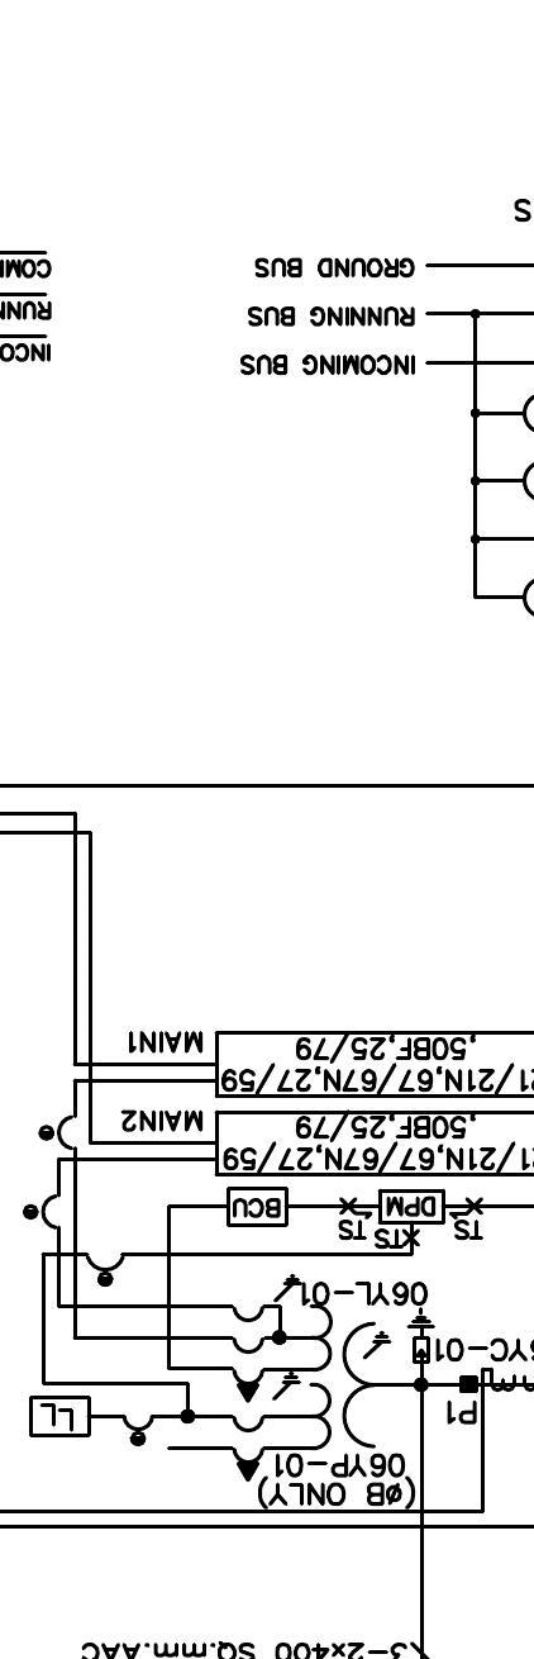115_la: (406, 1307, 436, 1365)
115_vt_1p: (229, 1273, 393, 1482)
BCU: (225, 1186, 290, 1228)
DPM: (378, 1188, 446, 1225)
LL: (29, 1396, 92, 1438)
